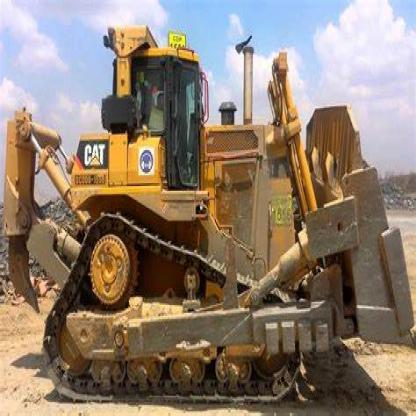excavator: (8, 26, 402, 414)
